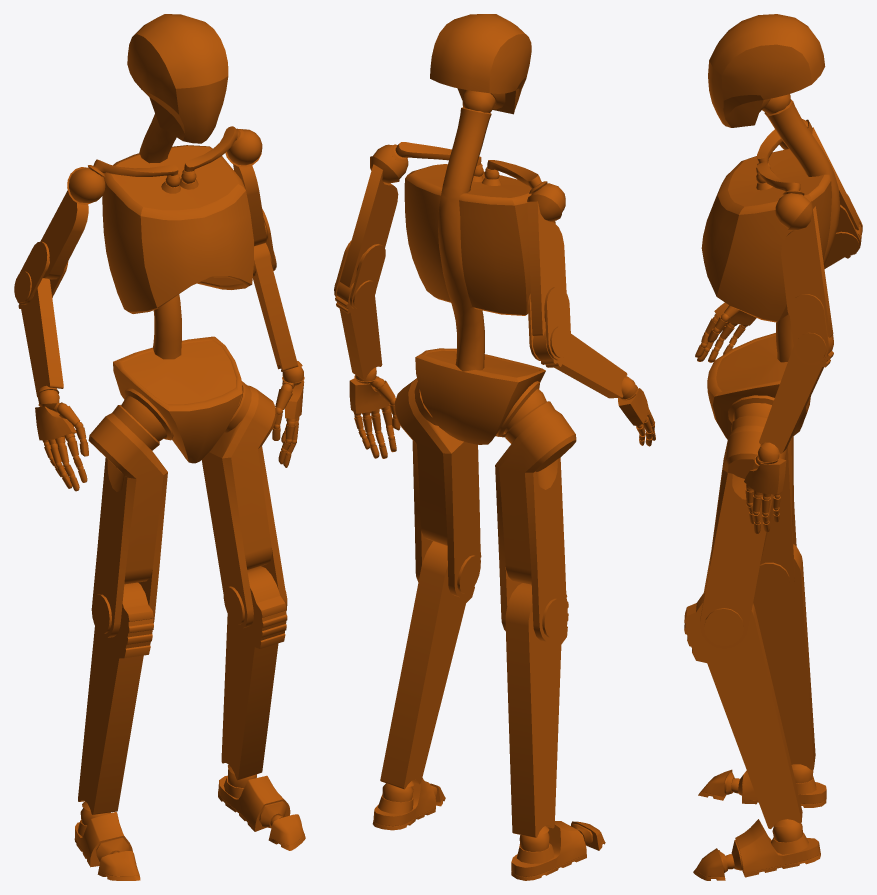
File: RobotAnimacja_000038.obj
3 views of the same model, side by side, from view 1: azimuth 30°, elevation 25°; view 2: azimuth 150°, elevation 25°; view 3: azimuth 270°, elevation 25° (orthographic).
Parts seen in each view (by area): view 1: free3dmodel.001; view 2: free3dmodel.001; view 3: free3dmodel.001.
Boxes of the visible parts, box(x1,y1,x2,y2) form: free3dmodel.001: box(14, 14, 305, 880); free3dmodel.001: box(334, 14, 655, 880); free3dmodel.001: box(684, 14, 862, 880).
Bounding box in the file's own units: 2.12 × 6.03 × 1.19.
